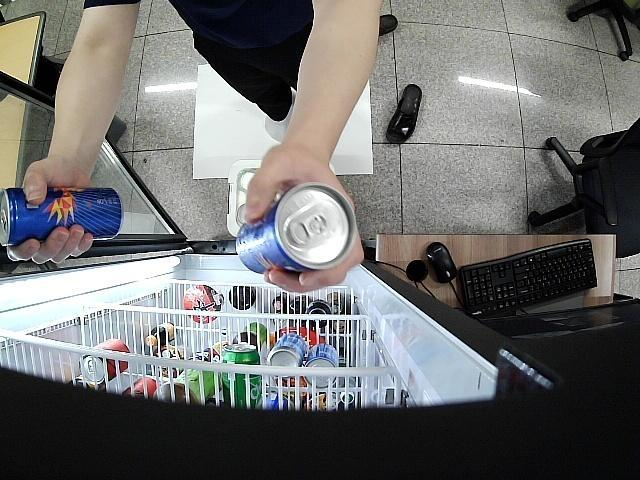16_hot6: (235, 181, 358, 274), (0, 182, 123, 248)
